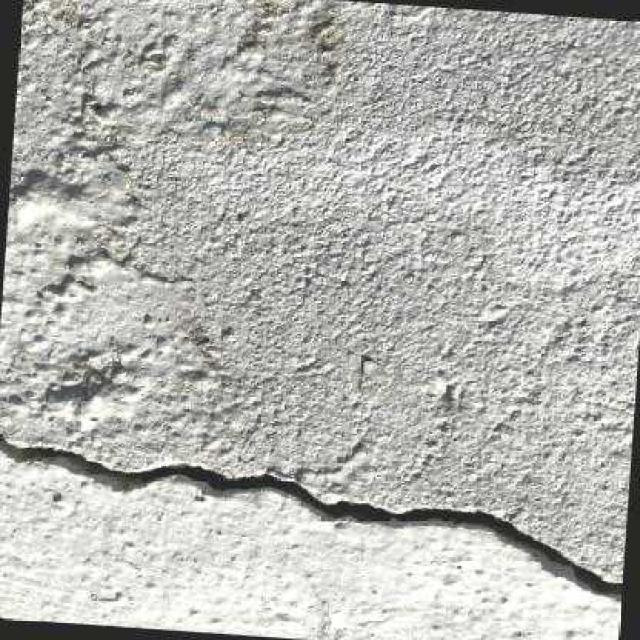D00: (0, 431, 622, 601)
